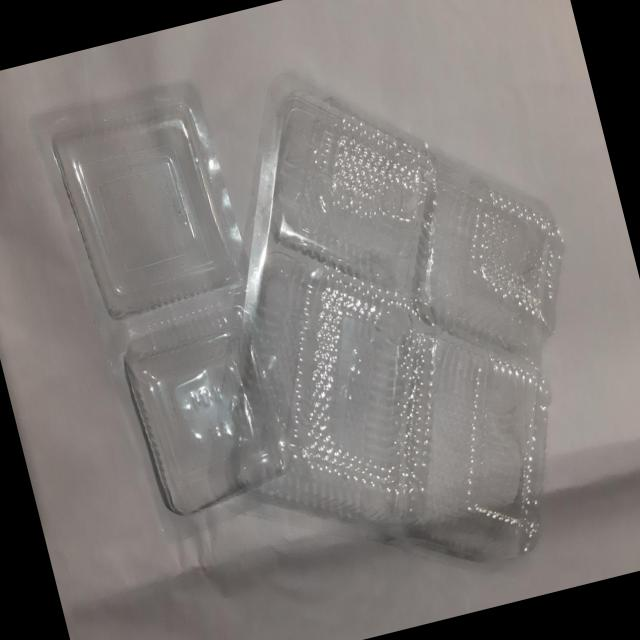KemasanPlastik: (38, 8, 638, 640)
